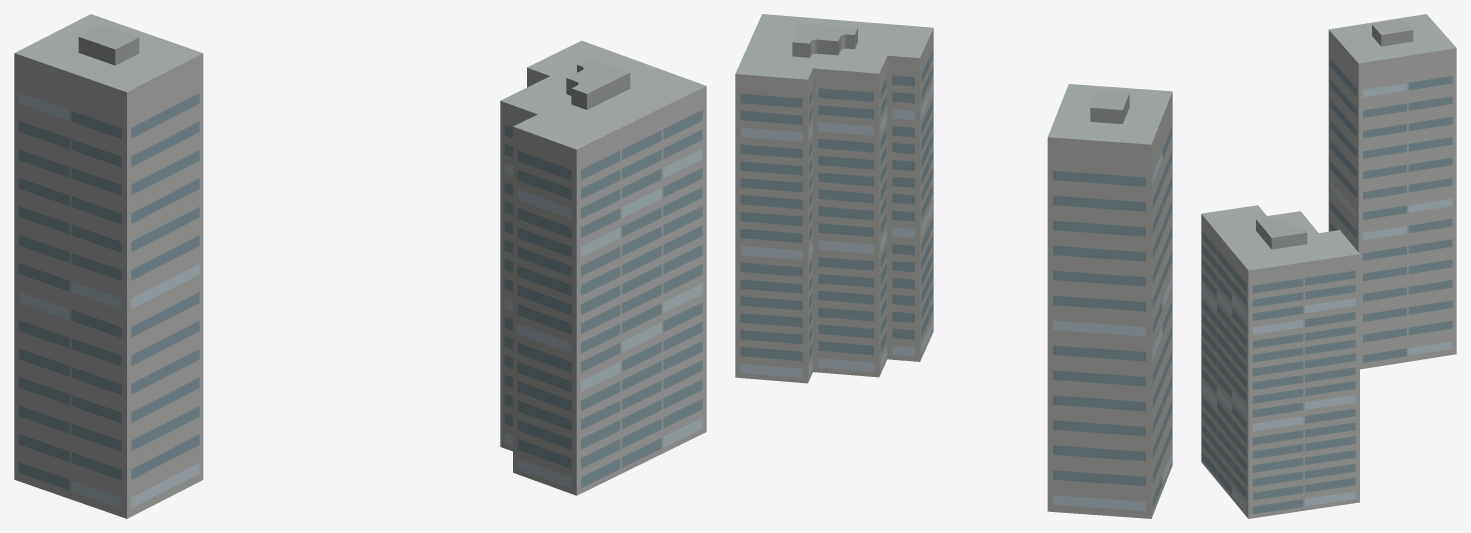
Rendered from apt-a13508001.glb.
3 renders of one model, left to right at view 1: azimuth 30°, elevation 25°; view 2: azimuth 150°, elevation 25°; view 3: azimuth 270°, elevation 25°, orthographic. The views are drawn at different scales.
Parts seen in each view (by area): view 1: apt-a13508001; view 2: apt-a13508001; view 3: apt-a13508001.
Part boxes in pixels (bbox=[...]): apt-a13508001: bbox=[14, 14, 706, 518]; apt-a13508001: bbox=[735, 14, 1172, 518]; apt-a13508001: bbox=[1201, 14, 1456, 518].
Bounding box in the file's own units: 88.59 × 66 × 48.1.
